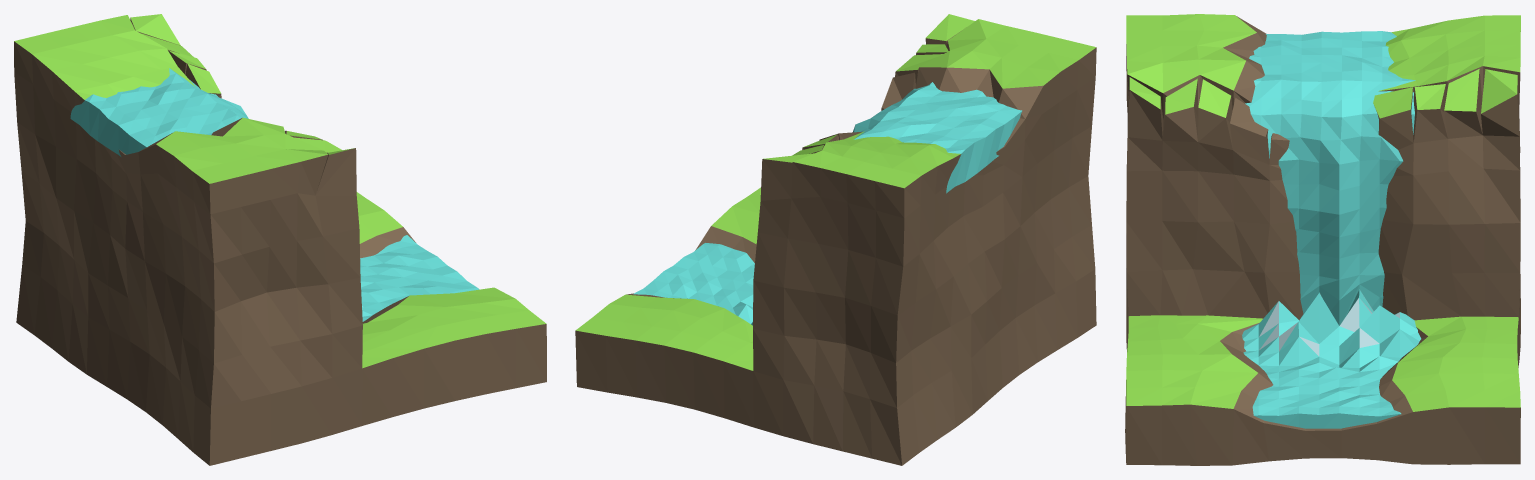
Rendered from Low_Poly_Icelandic_Waterfall.glb.
The picture shows the model from 3 angles, left to right: view 1: azimuth 30°, elevation 25°; view 2: azimuth 150°, elevation 25°; view 3: azimuth 270°, elevation 25°; orthographic projection. The views are drawn at different scales.
Parts seen in each view (by area): view 1: Cliff and Ground_Cliff and Ground_0, Cliff and Ground_Grass_0, Water River_Water_0; view 2: Cliff and Ground_Cliff and Ground_0, Cliff and Ground_Grass_0, Water River_Water_0; view 3: Cliff and Ground_Cliff and Ground_0, Water River_Water_0, Cliff and Ground_Grass_0, Water River_Shader_0.
Boxes of the visible parts, left/top/right/bottom form: Cliff and Ground_Cliff and Ground_0: left=14, top=18, right=546, bottom=465; Cliff and Ground_Grass_0: left=14, top=14, right=546, bottom=368; Water River_Water_0: left=70, top=68, right=479, bottom=321; Cliff and Ground_Cliff and Ground_0: left=575, top=31, right=1096, bottom=465; Cliff and Ground_Grass_0: left=575, top=14, right=1096, bottom=370; Water River_Water_0: left=633, top=82, right=1022, bottom=325; Cliff and Ground_Cliff and Ground_0: left=1125, top=16, right=1520, bottom=465; Water River_Water_0: left=1242, top=31, right=1421, bottom=428; Cliff and Ground_Grass_0: left=1126, top=14, right=1520, bottom=411; Water River_Shader_0: left=1259, top=294, right=1399, bottom=356.
Bounding box in the file's own units: 7.58 × 6.05 × 7.55.
